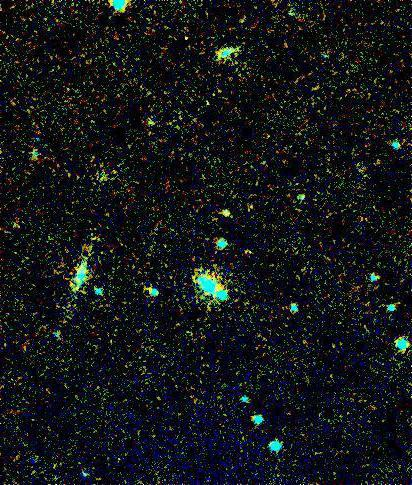star: (209, 273, 239, 303)
